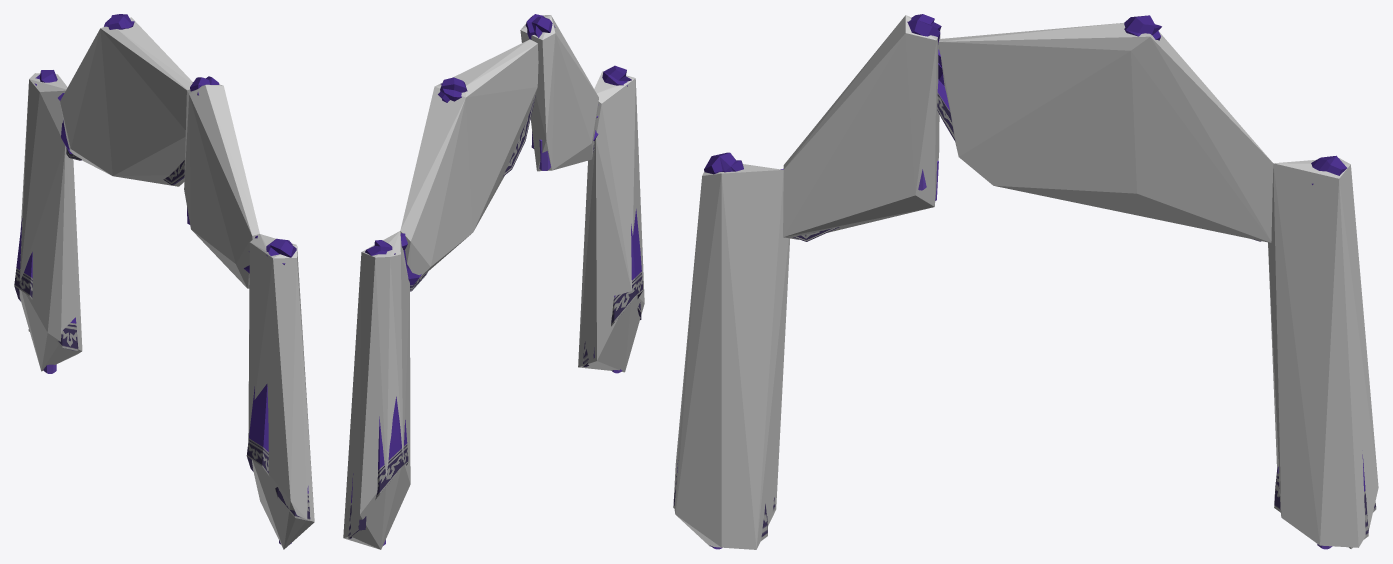
File: SM_Prop_Drapes_01.fbx
3 views of the same model, side by side, from view 1: azimuth 30°, elevation 25°; view 2: azimuth 150°, elevation 25°; view 3: azimuth 270°, elevation 25° (orthographic). The views are drawn at different scales.
Parts seen in each view (by area): view 1: SM_Prop_Drapes_01_ConvexHulls, SM_Prop_Drapes_01; view 2: SM_Prop_Drapes_01_ConvexHulls, SM_Prop_Drapes_01; view 3: SM_Prop_Drapes_01_ConvexHulls, SM_Prop_Drapes_01.
Boxes of the visible parts, x1,y1,x2,y2 form: SM_Prop_Drapes_01_ConvexHulls: [19, 17, 314, 549]; SM_Prop_Drapes_01: [14, 14, 310, 544]; SM_Prop_Drapes_01_ConvexHulls: [343, 15, 644, 549]; SM_Prop_Drapes_01: [348, 14, 643, 545]; SM_Prop_Drapes_01_ConvexHulls: [673, 15, 1378, 549]; SM_Prop_Drapes_01: [673, 14, 1376, 549].
Size of the model in its own units: 26.83 by 231 by 192.
Materials: 2 (1 with a texture image).
